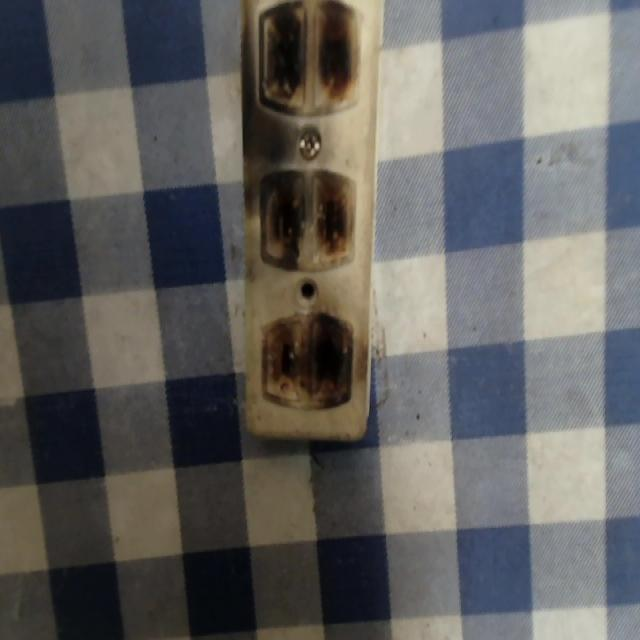-: (255, 0, 363, 115), (256, 164, 359, 269), (256, 308, 354, 409)
